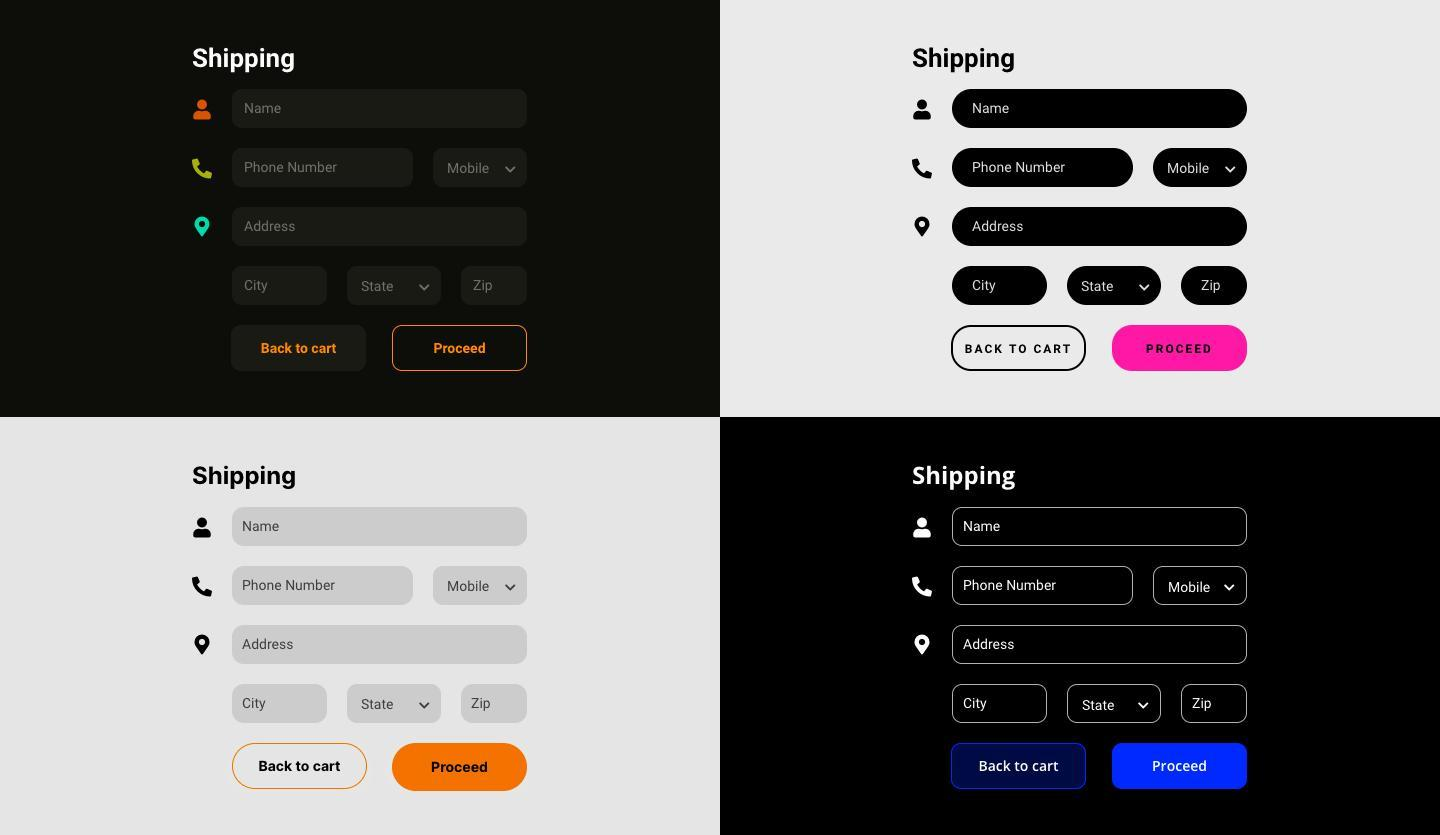button: (951, 739, 1088, 796), (949, 321, 1089, 375), (1112, 740, 1251, 793), (1113, 323, 1247, 374), (233, 743, 369, 792), (392, 744, 529, 792), (395, 328, 529, 371), (244, 334, 366, 365)
dropdown: (1066, 262, 1164, 311), (434, 565, 531, 608), (345, 685, 443, 727), (1150, 149, 1250, 190), (1153, 567, 1248, 607), (1067, 685, 1164, 724), (437, 152, 524, 191), (349, 272, 444, 307)
icon: (904, 513, 942, 548), (908, 631, 940, 666), (911, 205, 941, 242), (908, 570, 940, 603), (907, 95, 938, 128), (907, 151, 937, 185), (189, 575, 220, 604), (191, 95, 219, 124), (190, 159, 217, 185), (192, 214, 216, 242), (193, 515, 216, 544), (192, 630, 215, 657)
input: (233, 621, 529, 670), (954, 86, 1249, 133), (235, 91, 526, 136), (949, 206, 1251, 248), (231, 506, 530, 548), (241, 209, 523, 250), (953, 508, 1248, 547), (954, 627, 1247, 665), (231, 562, 419, 609), (953, 149, 1135, 190), (954, 567, 1135, 608), (238, 150, 423, 187), (233, 684, 328, 726), (952, 267, 1047, 307), (955, 685, 1050, 725), (240, 269, 327, 306), (1180, 264, 1253, 308), (461, 685, 528, 724), (1181, 686, 1248, 724), (461, 271, 522, 305)
label: (185, 46, 307, 80), (912, 43, 1016, 77), (192, 461, 301, 493), (912, 462, 1022, 493)
